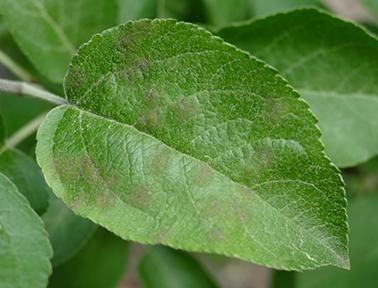Apple Scab Leaf: (33, 14, 356, 276)
